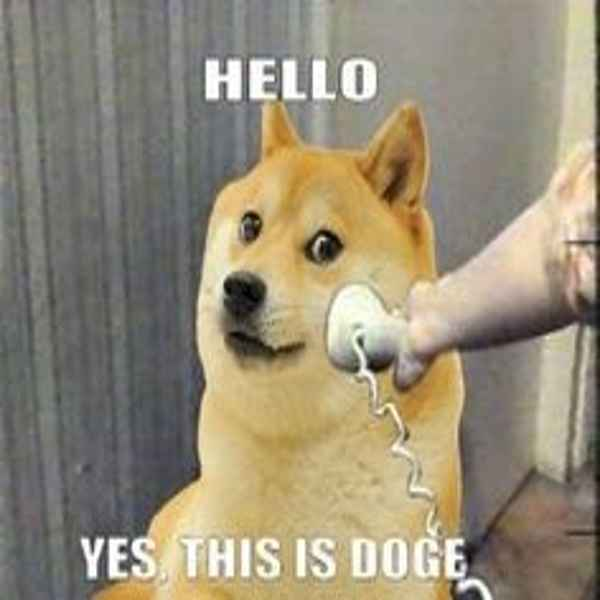doge: (191, 108, 447, 428)
